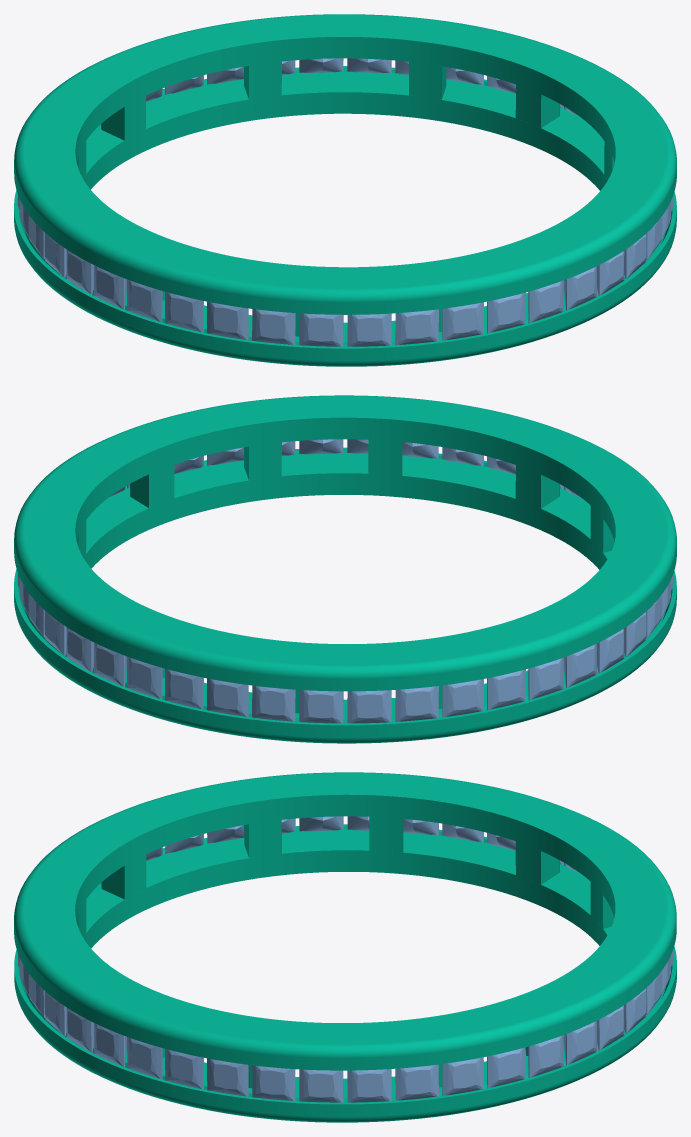
3 renders of one model, top to bottom at view 1: azimuth 30°, elevation 25°; view 2: azimuth 150°, elevation 25°; view 3: azimuth 270°, elevation 25°, orthographic.
Parts seen in each view (by area): view 1: (K)(base).3dm, Diamond_Princess (×18); view 2: (K)(base).3dm, Diamond_Princess (×19); view 3: (K)(base).3dm, Diamond_Princess (×18).
Part boxes in pixels (bbox=[...]): (K)(base).3dm: bbox=[14, 14, 676, 366]; Diamond_Princess (×18): bbox=[44, 58, 646, 346]; (K)(base).3dm: bbox=[14, 395, 676, 743]; Diamond_Princess (×19): bbox=[44, 439, 646, 723]; (K)(base).3dm: bbox=[14, 772, 676, 1122]; Diamond_Princess (×18): bbox=[44, 816, 646, 1102].
Bounding box in the file's own units: 2.82 × 0.3735 × 2.82.
